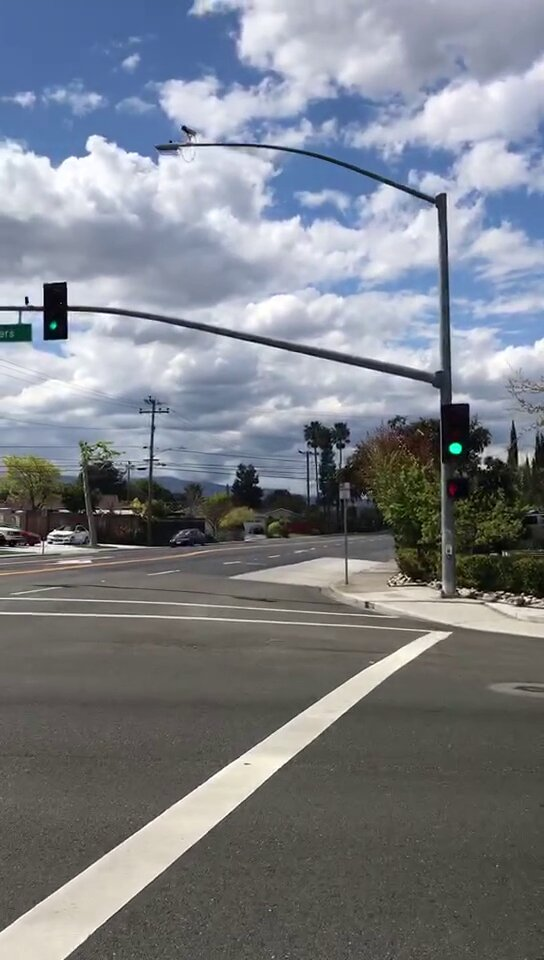green_light: (443, 407, 469, 462), (44, 284, 66, 339)
